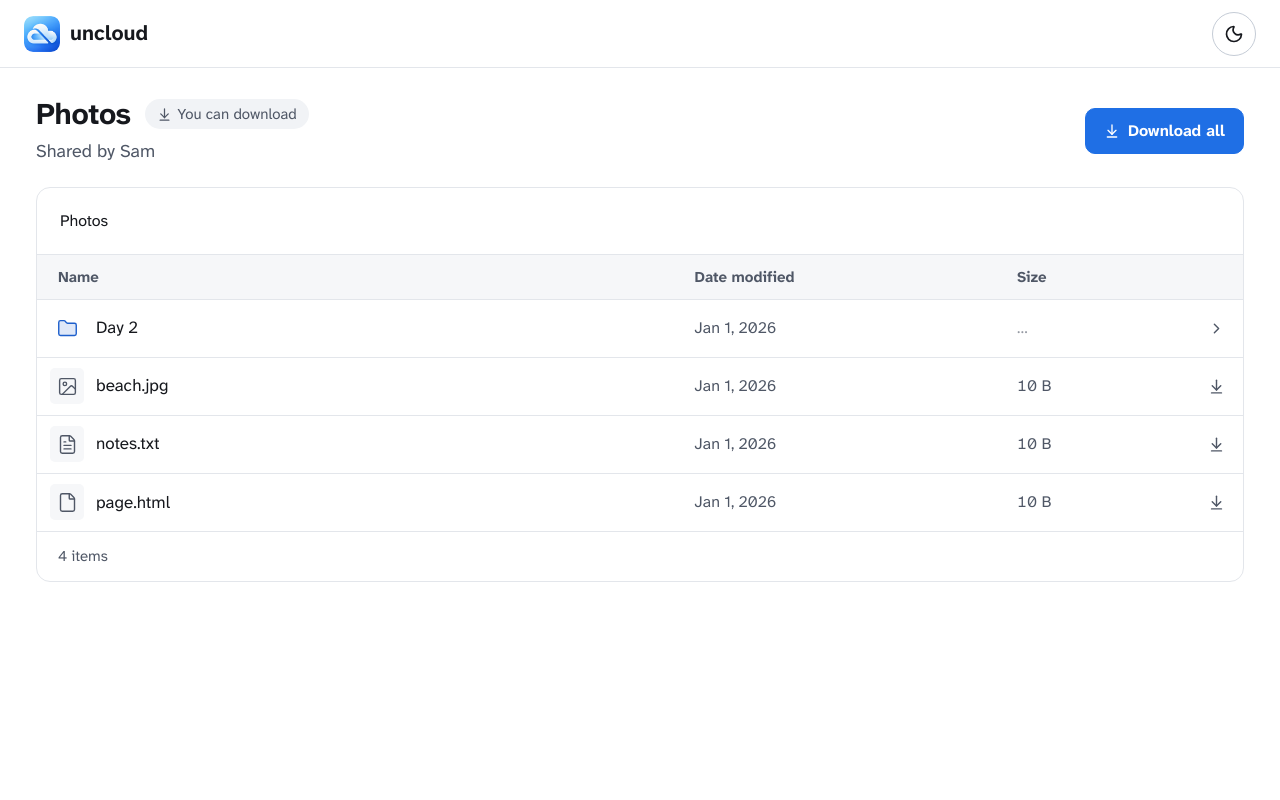
Test: opening a shared link › offers each file, and the whole folder as a zip, when downloading is allowed
Expected: the text "beach.jpg" is shown, [96,373,168,399]
Expected: the text "You can download" is shown, [145,99,309,129]
Click the button with aria-label "View page.html". click: (67, 502)
box: [38,476,693,528]
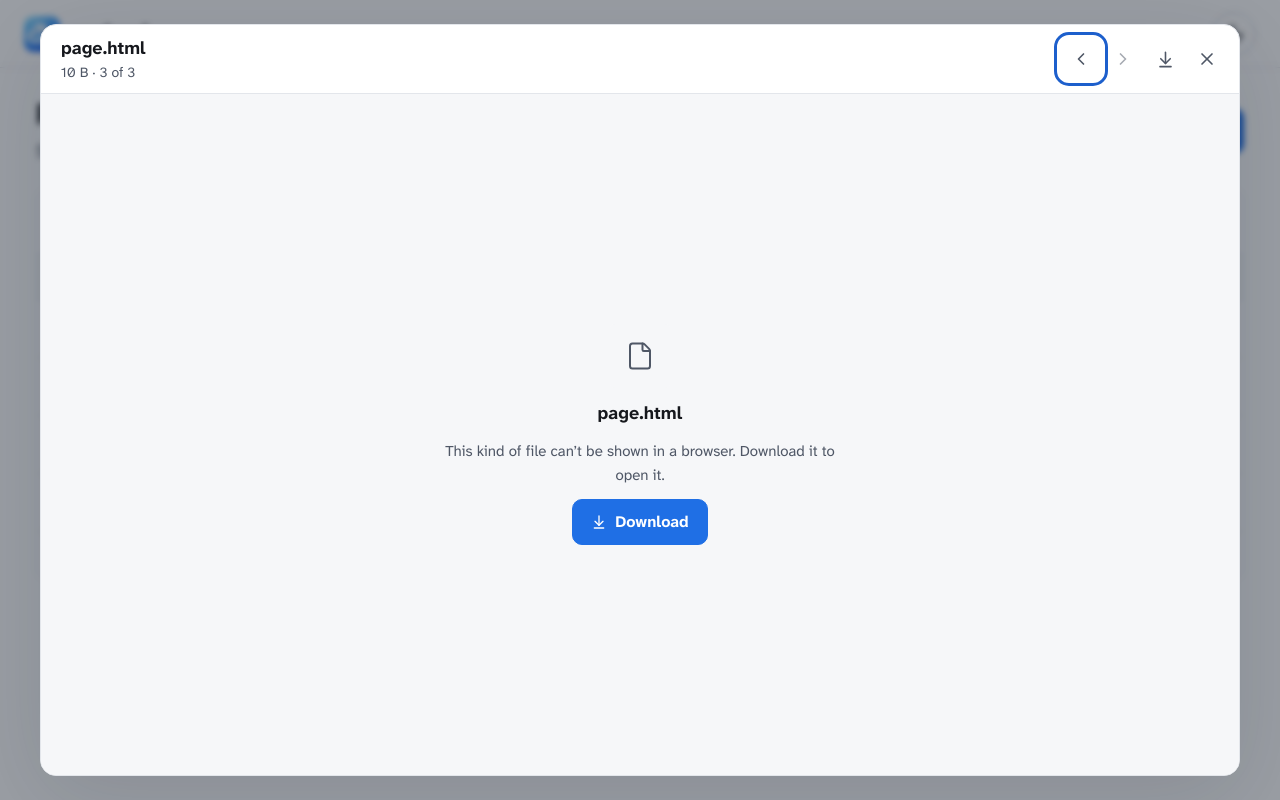
Result: the link named "Download" is shown at [1156,50,1174,68]
